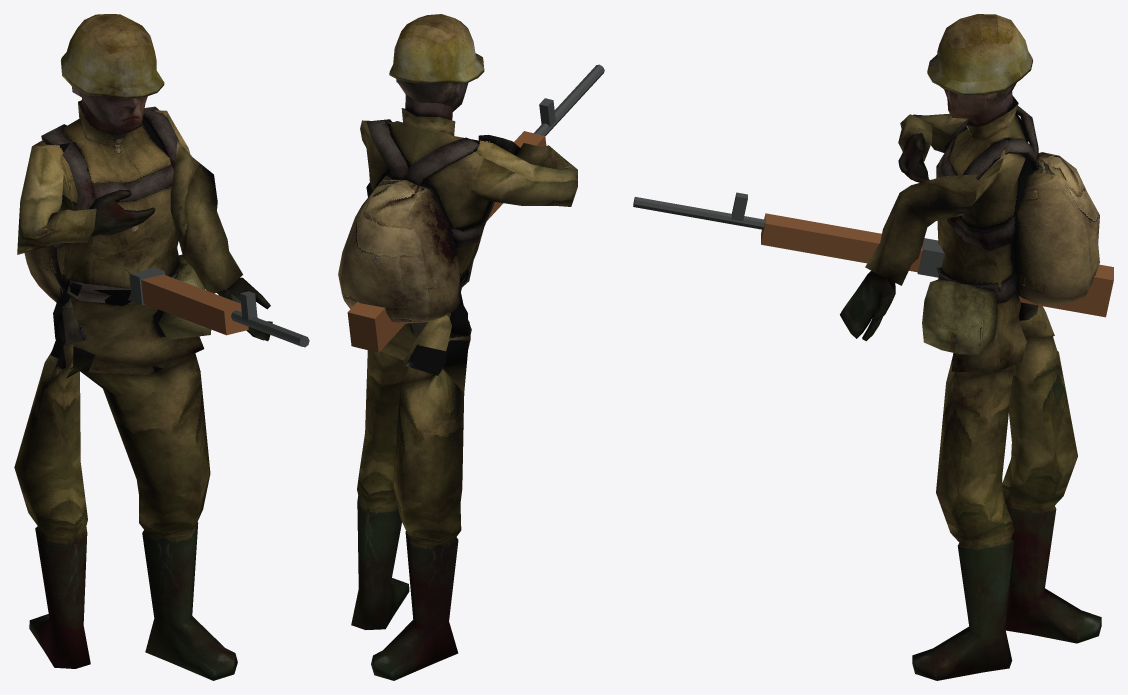
Rendered from soviet_ww2_soldier_walk_02.glb.
The picture shows the model from 3 angles, left to right: view 1: azimuth 30°, elevation 25°; view 2: azimuth 150°, elevation 25°; view 3: azimuth 270°, elevation 25°; orthographic projection. The views are drawn at different scales.
Parts seen in each view (by area): view 1: final_Static, SovietRifle_Generated; view 2: final_Static, SovietRifle_Generated; view 3: final_Static, SovietRifle_Generated.
Part boxes in pixels (left/top/right/bottom): final_Static: left=14, top=14, right=272, bottom=680; SovietRifle_Generated: left=102, top=267, right=309, bottom=347; final_Static: left=338, top=14, right=577, bottom=680; SovietRifle_Generated: left=347, top=64, right=604, bottom=352; final_Static: left=840, top=14, right=1101, bottom=680; SovietRifle_Generated: left=633, top=192, right=1113, bottom=317.
Size of the model in its own units: 0.6243 by 1.72 by 1.22.
Materials: 3 (1 with a texture image).
